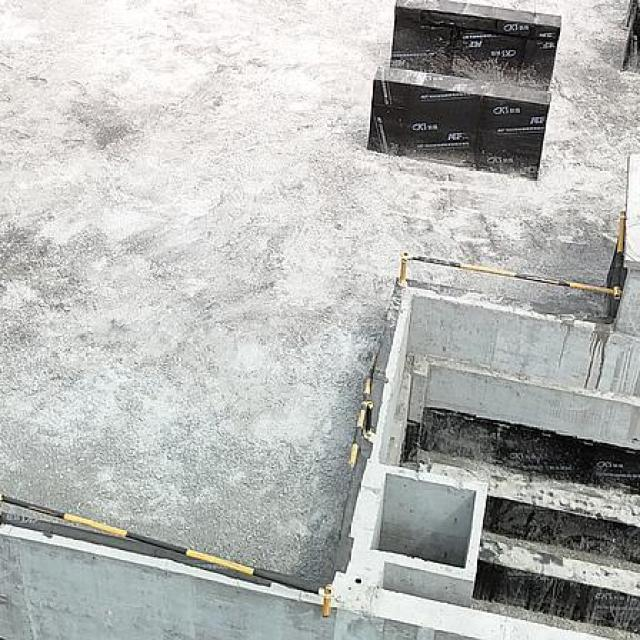Guardrail: (0, 491, 339, 619), (399, 209, 637, 301), (347, 373, 374, 467)
